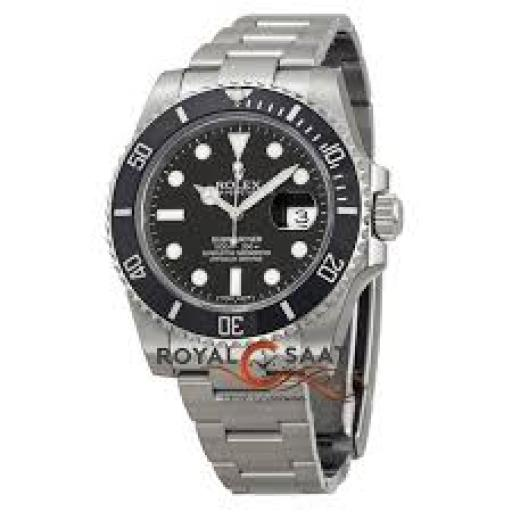KolSaati: (109, 7, 430, 512)
